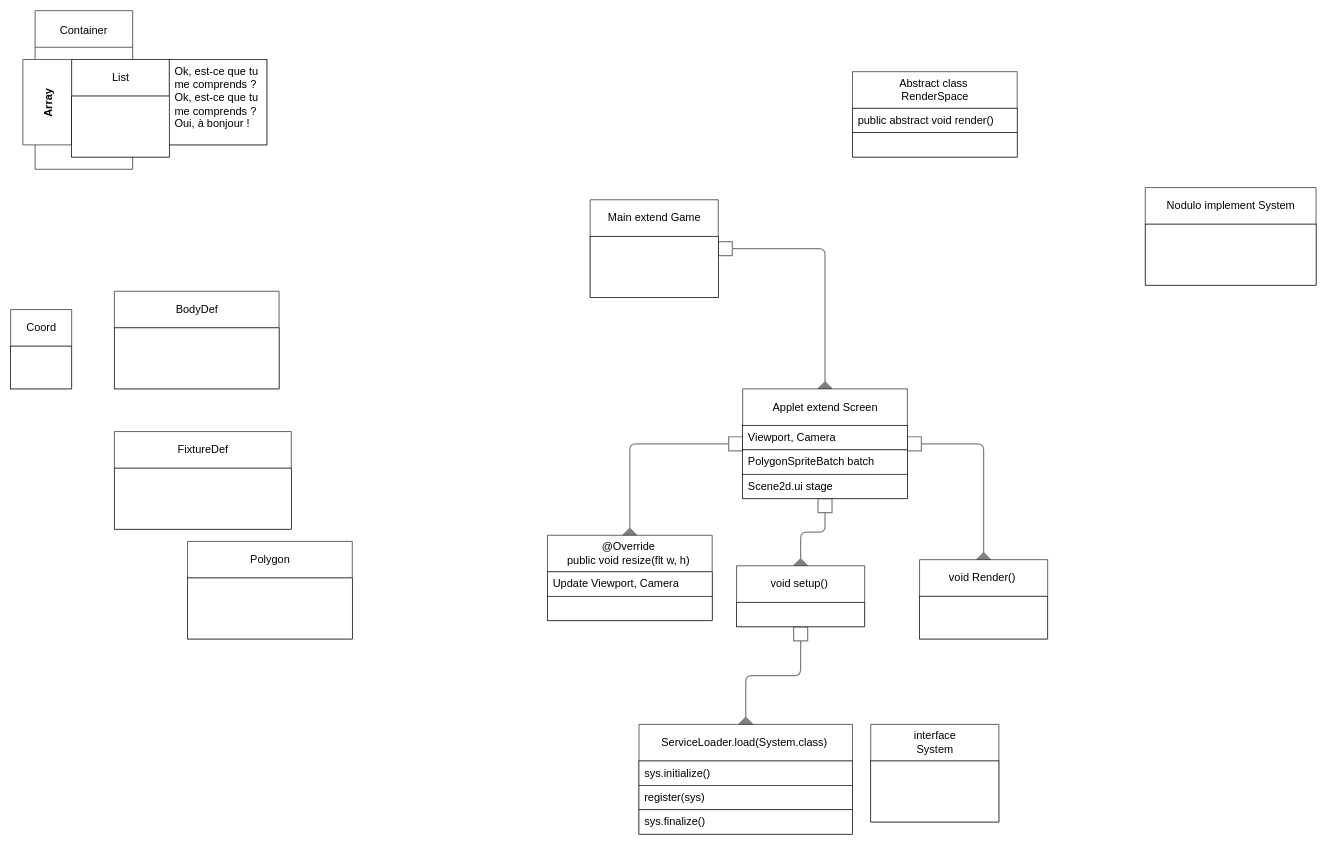
This 1327x845 diagram has some shape labels left out. The centre of each missing label's shape, as x and y in pixels:
"Dynamic / Kinetic / Static Transparency" belongs at point 196,358.
"Float density, friction, restitution isSensor Shape polygon" belongs at point 202,498.
"Float[] points" belongs at point 269,608.
"Launch Applet" belongs at point 654,266.
"public void initialize() public void finalize() public void dispose()" belongs at point 934,791.
"stage.act() stage.draw()" belongs at point 983,617.
"Vas-y, écris-moi un petit truc en vitesse là, juste pour rembiaire." belongs at point 120,126.
"Vec pos Flt rot" belongs at point 41,367.
